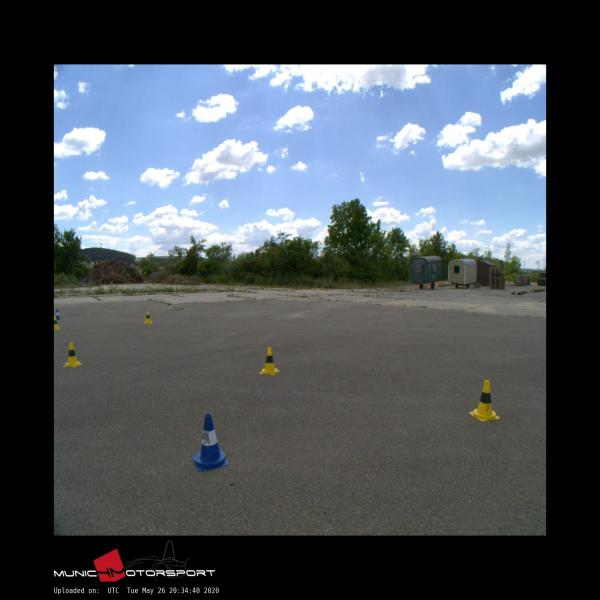blue_cone: (193, 413, 230, 470), (55, 309, 60, 319)
yellow_cone: (469, 380, 499, 421), (259, 347, 279, 374), (62, 341, 82, 366), (143, 310, 152, 324), (54, 315, 60, 330)
